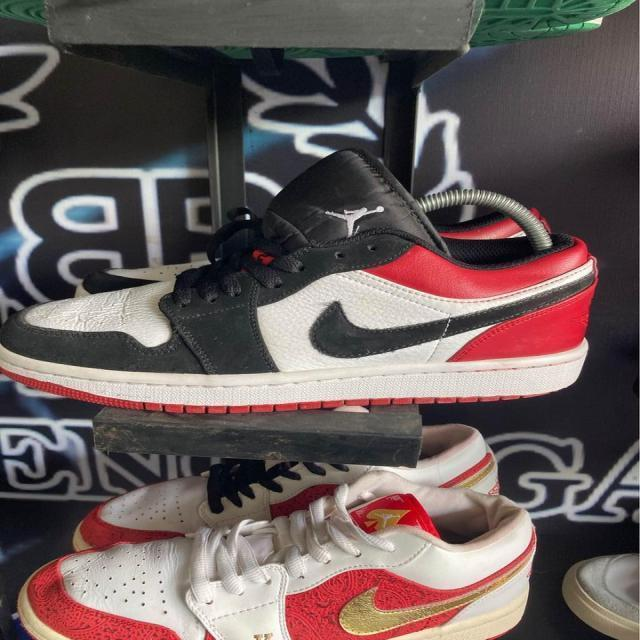nike fake jordan 1: (0, 143, 604, 418)
